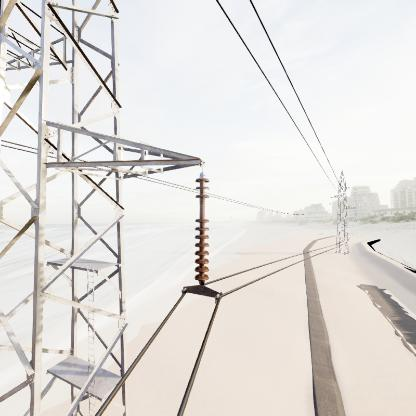insulator: (192, 175, 213, 289)
